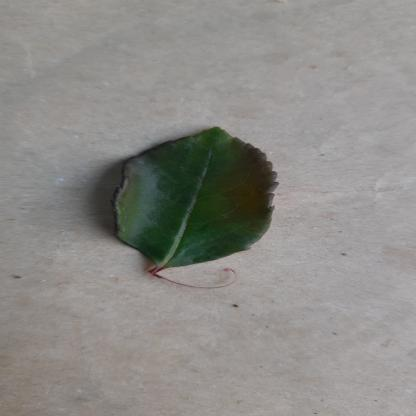downy-mildew: (102, 122, 288, 268)
